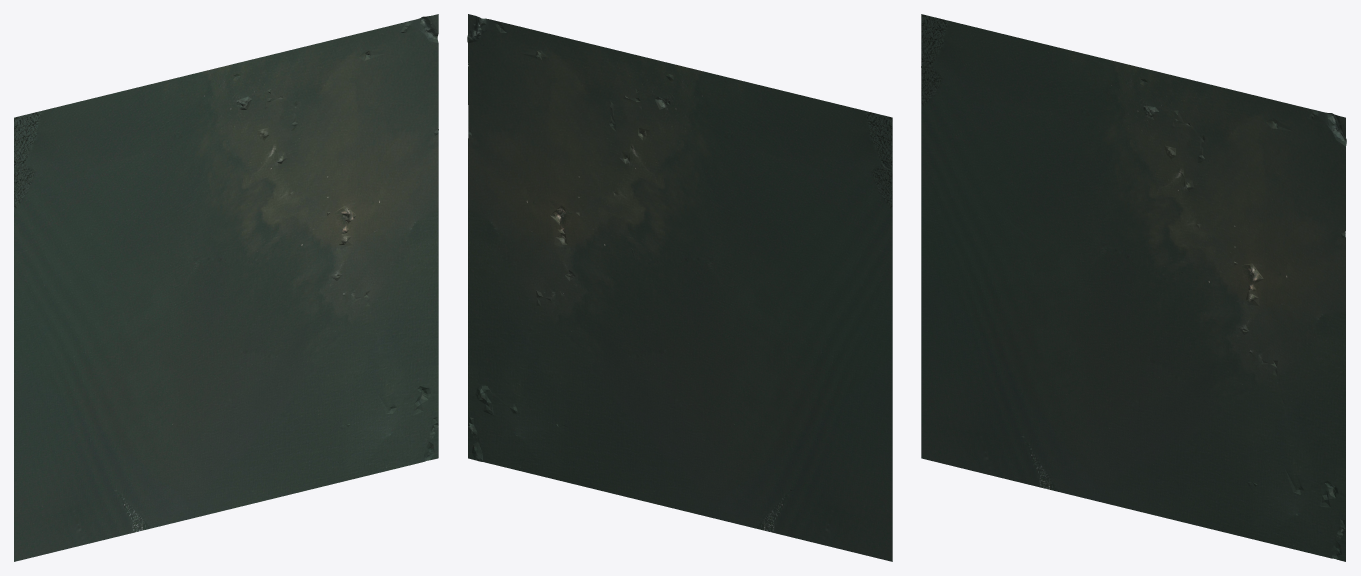
Rendered from Tile_+1999_+2684.obj.
3 renders of one model, left to right at view 1: azimuth 30°, elevation 25°; view 2: azimuth 150°, elevation 25°; view 3: azimuth 330°, elevation 25°, orthographic.
Bounding box in the file's own units: 252 × 252 × 4.92.
1 material, 1 textured.
